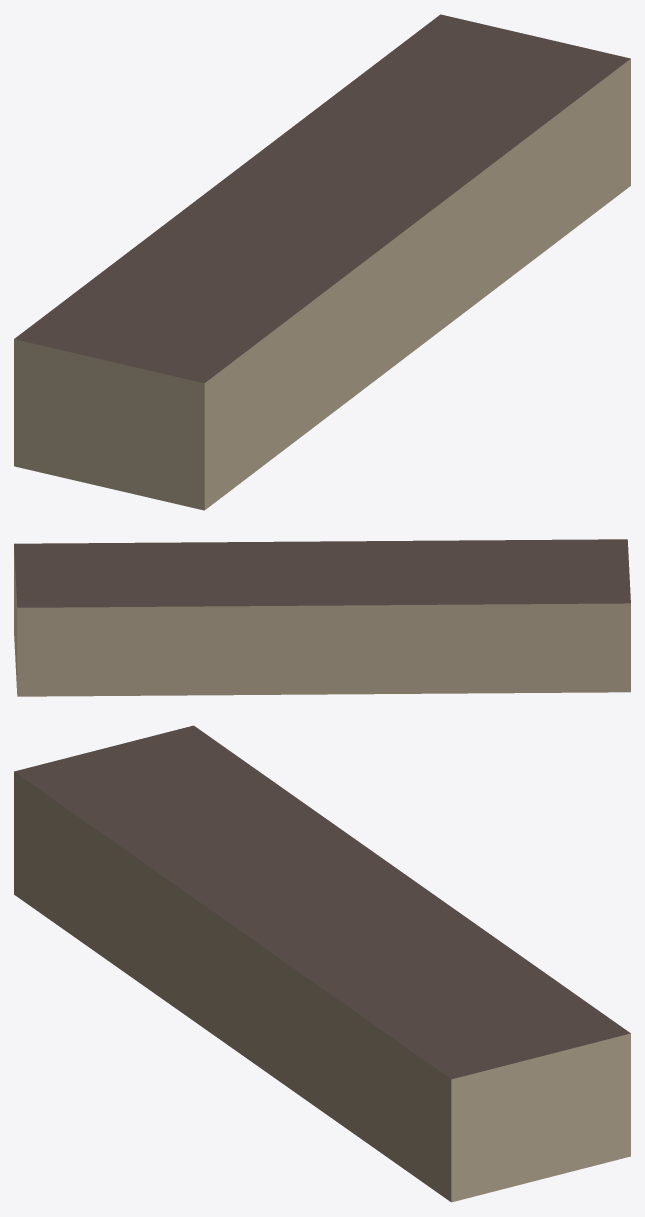
3 views of the same model, one above another, from view 1: azimuth 30°, elevation 25°; view 2: azimuth 150°, elevation 25°; view 3: azimuth 270°, elevation 25° (orthographic). The views are drawn at different scales.
Parts seen in each view (by area): view 1: HP-w859088529; view 2: HP-w859088529; view 3: HP-w859088529.
Boxes of the visible parts, x1=… form: HP-w859088529: x1=14, y1=14, x2=630, y2=510; HP-w859088529: x1=14, y1=539, x2=630, y2=696; HP-w859088529: x1=14, y1=725, x2=630, y2=1202.
Bounding box in the file's own units: 55.52 × 9 × 40.9.
